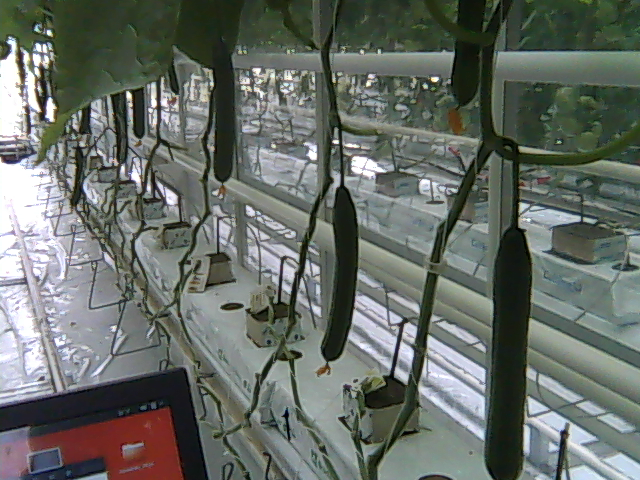concombre: (483, 217, 538, 480), (315, 179, 362, 382), (206, 37, 241, 198), (444, 1, 488, 129)
